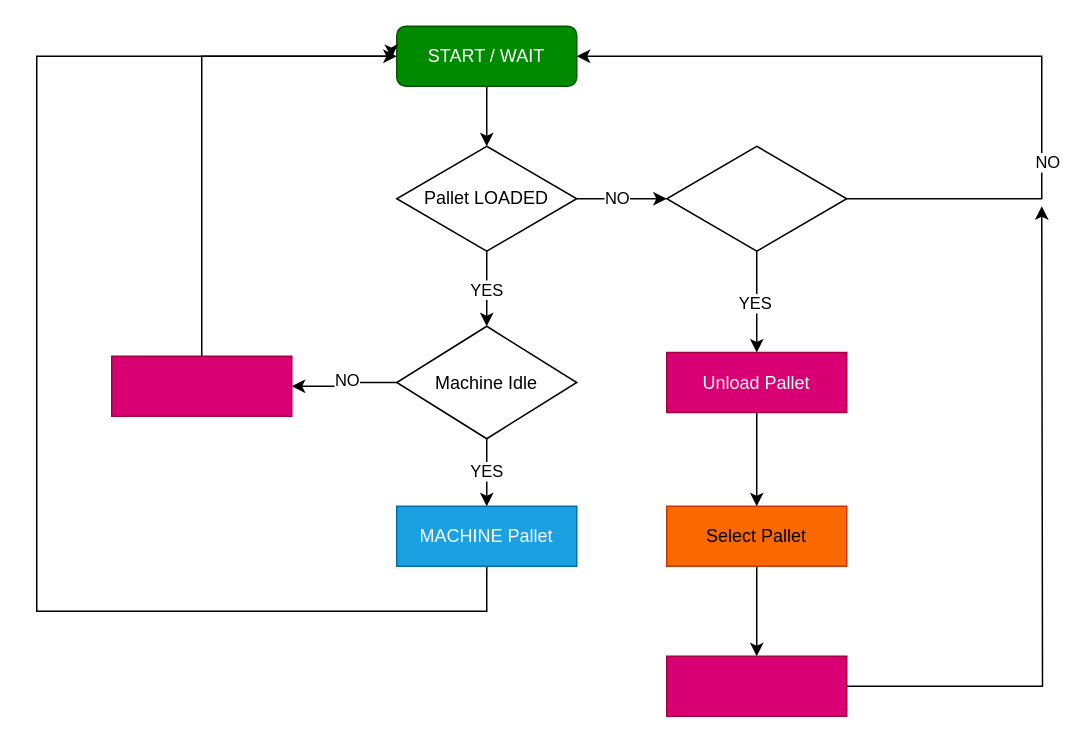
This 1086x743 diagram has some shape labels left out. Each missing label, with the centre of its shape:
"ADD Pallet to Table" goes at point 201,385.
"Load Pallet" goes at point 756,685.
"Pallet DONE" goes at point 756,198.
